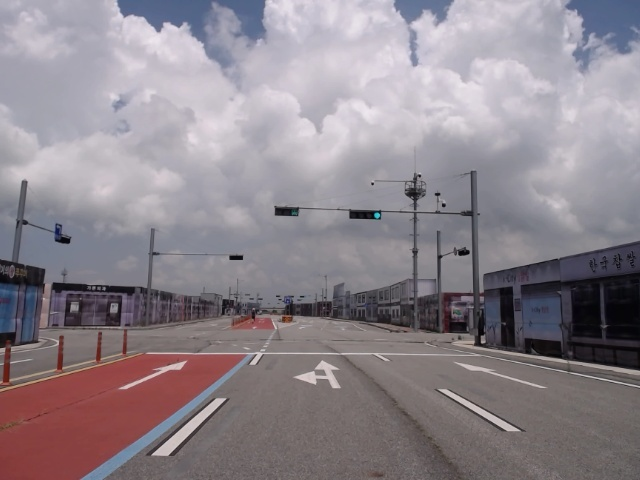straight_green_4: (350, 210, 382, 219)
